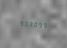nine: (43, 20, 47, 29), (17, 18, 21, 26), (38, 20, 42, 28)
three: (28, 19, 32, 27)
zero: (33, 19, 37, 28), (22, 19, 26, 27)
